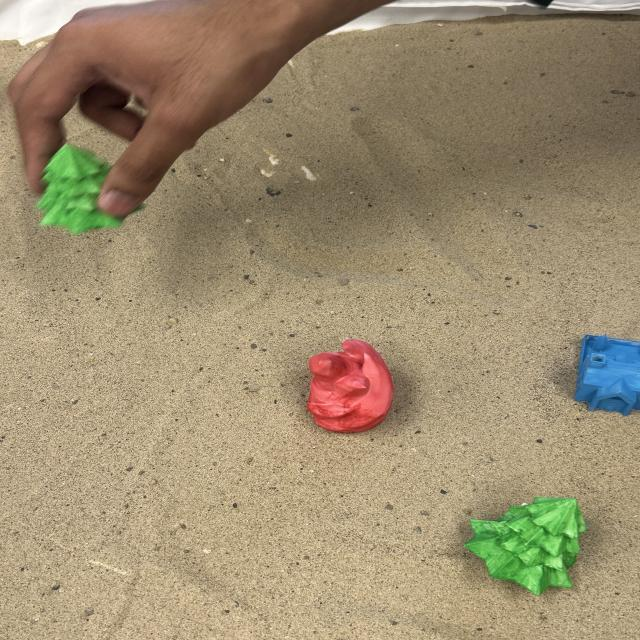fire: (304, 338, 395, 433)
house: (572, 332, 638, 417)
tree: (463, 495, 588, 596), (42, 142, 140, 234)
